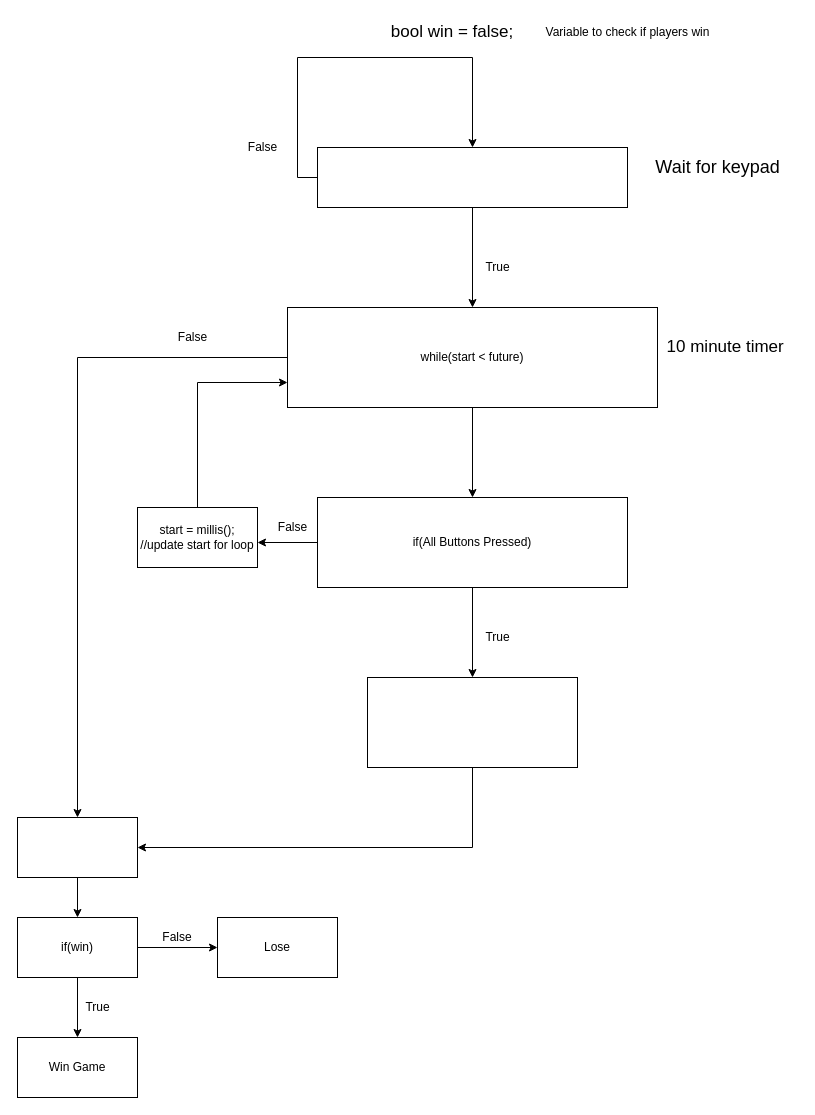
Some shapes in this 815 by 1115 pixel diagram are drawn without their labels. Here are the shapes that lost their labels. From the top down, the box of each, then its label:
(316, 146, 628, 208): if(digitalRead(keypad) == 'HIGH'))
(366, 676, 578, 768): win = true; start = future //end the loop
(16, 816, 138, 878): Game Over
